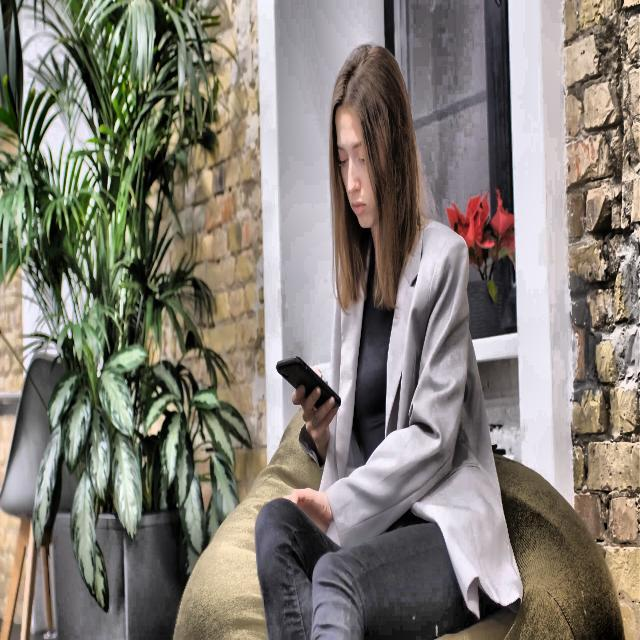Phone: (276, 352, 342, 422)
